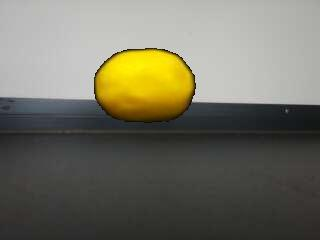Lemon: (95, 48, 196, 123)
